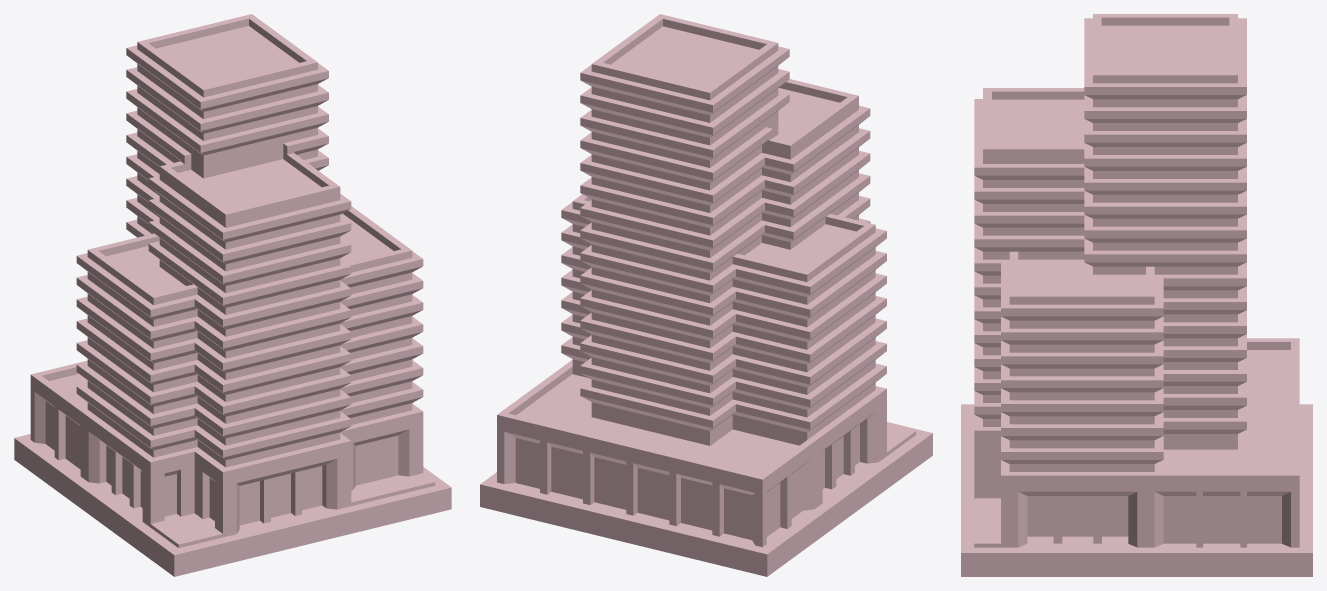
File: Heavy_Commercial3.fbx
The picture shows the model from 3 angles, left to right: view 1: azimuth 30°, elevation 25°; view 2: azimuth 150°, elevation 25°; view 3: azimuth 270°, elevation 25°; orthographic projection. The views are drawn at different scales.
Visible parts, largest first — view 1: Heavy_Commercal_3; view 2: Heavy_Commercal_3; view 3: Heavy_Commercal_3.
Part boxes in pixels (<box>): Heavy_Commercal_3: <box>14,14,451,576</box>; Heavy_Commercal_3: <box>480,14,932,576</box>; Heavy_Commercal_3: <box>961,14,1312,576</box>.
Size of the model in its own units: 4000 by 5800 by 4000.
